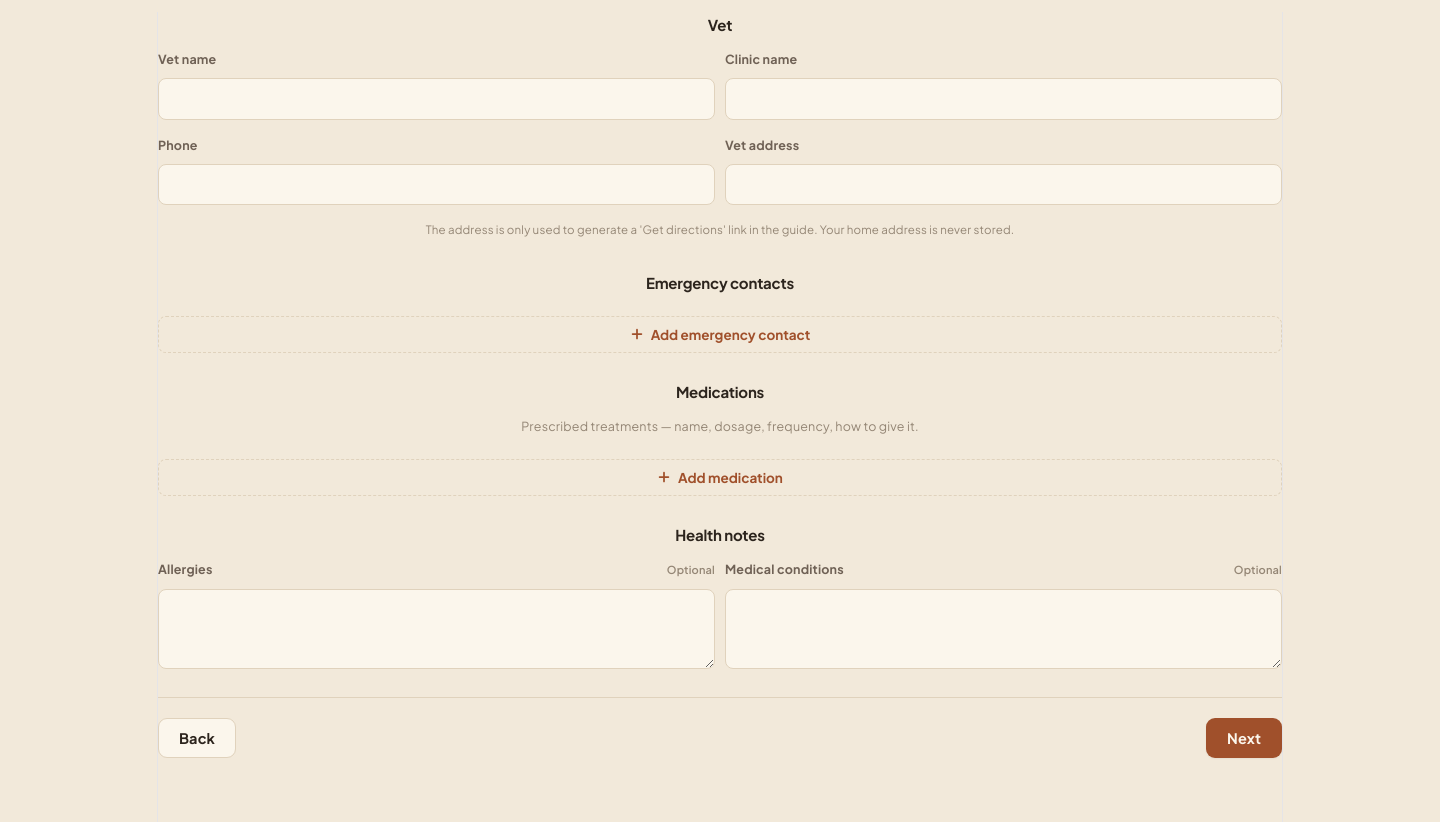
MedicalStep emergency contacts › clicking Remove emergency contact removes it
The width and height of the screenshot is (1440, 822).
Click the button "Add emergency contact" at x=720, y=334, box [158,316,1282,353]
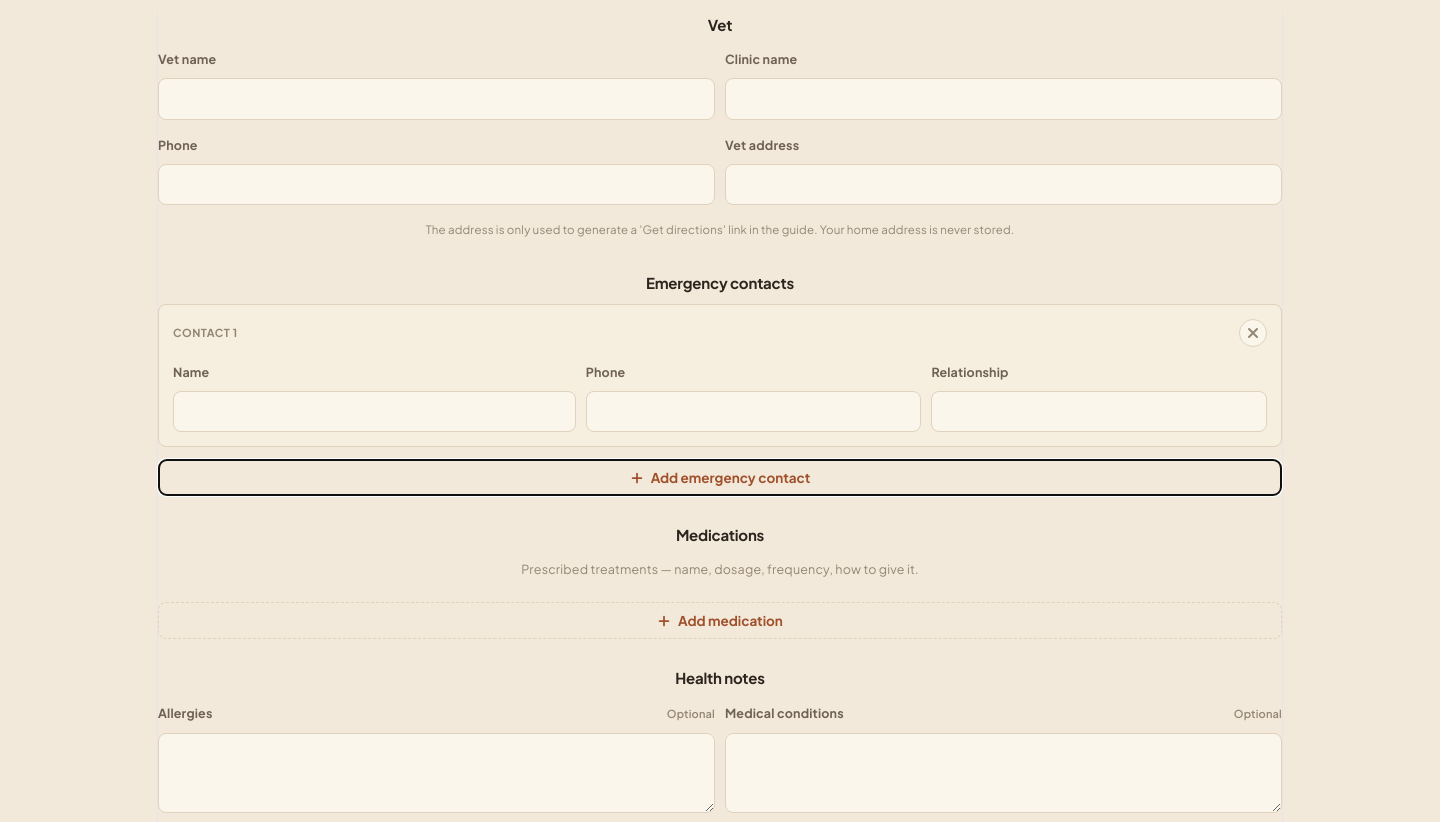
Click the button named "remove emergency contact" at x=1253, y=333, box [1239,319,1267,347]
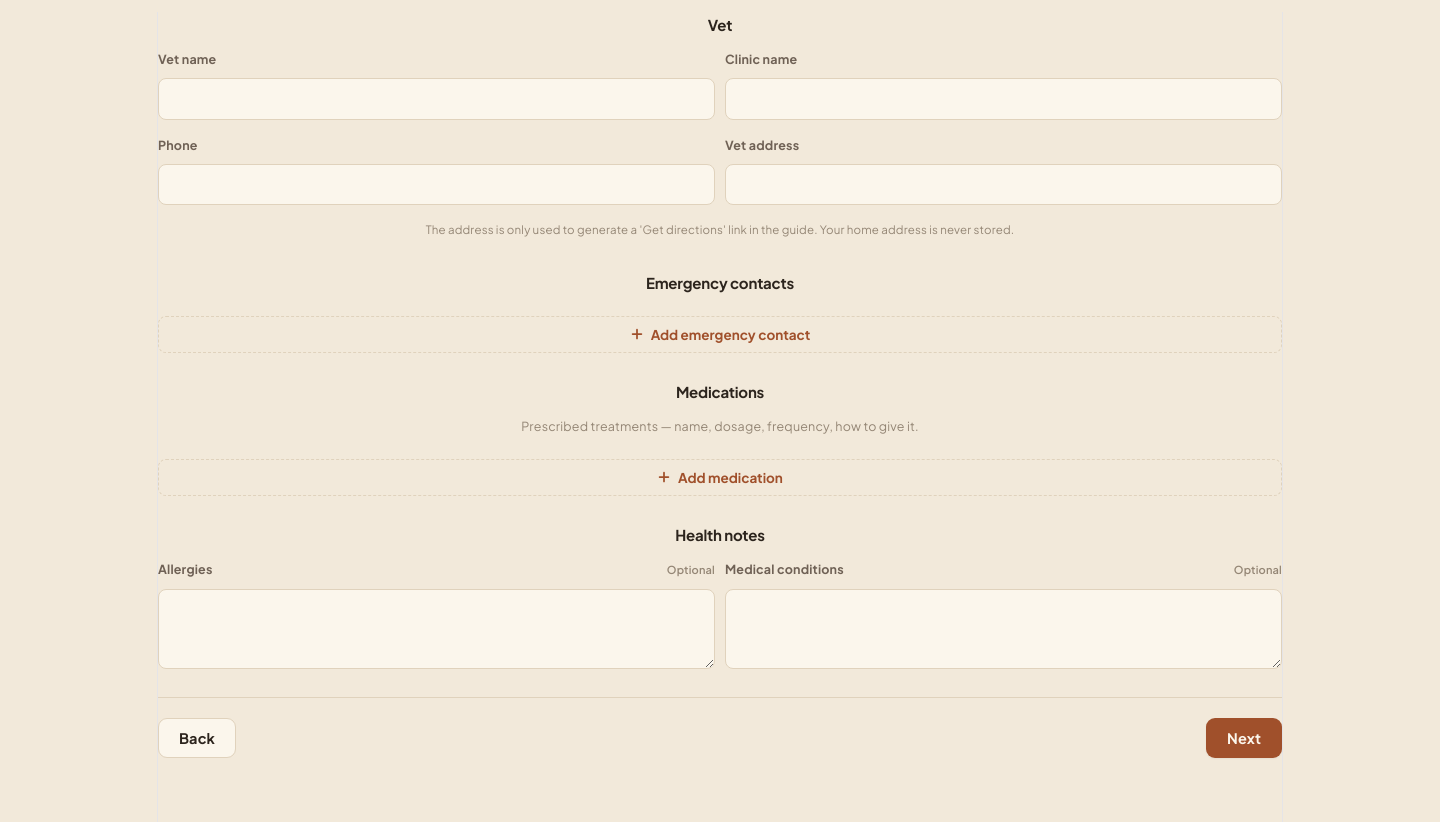
Expected: no elements with test id "emergency-contact" are shown
